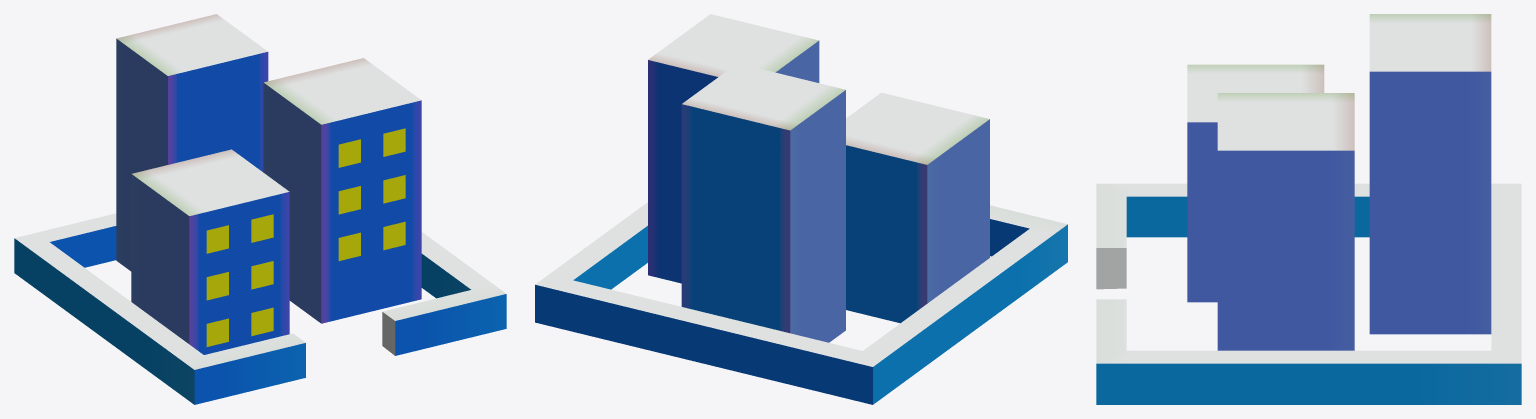
Rendered from City.BlueMoon.Snow.glb.
3 views of the same model, side by side, from view 1: azimuth 30°, elevation 25°; view 2: azimuth 150°, elevation 25°; view 3: azimuth 270°, elevation 25° (orthographic). The views are drawn at different scales.
Visible parts, largest first — view 1: City.BlueMoon.Snow; view 2: City.BlueMoon.Snow; view 3: City.BlueMoon.Snow.
Boxes of the visible parts, x1,y1,x2,y2 form: City.BlueMoon.Snow: [14, 14, 506, 404]; City.BlueMoon.Snow: [535, 14, 1067, 404]; City.BlueMoon.Snow: [1096, 14, 1521, 404].
Bounding box in the file's own units: 2.8 × 1.91 × 2.8.
2 materials, 1 textured.
